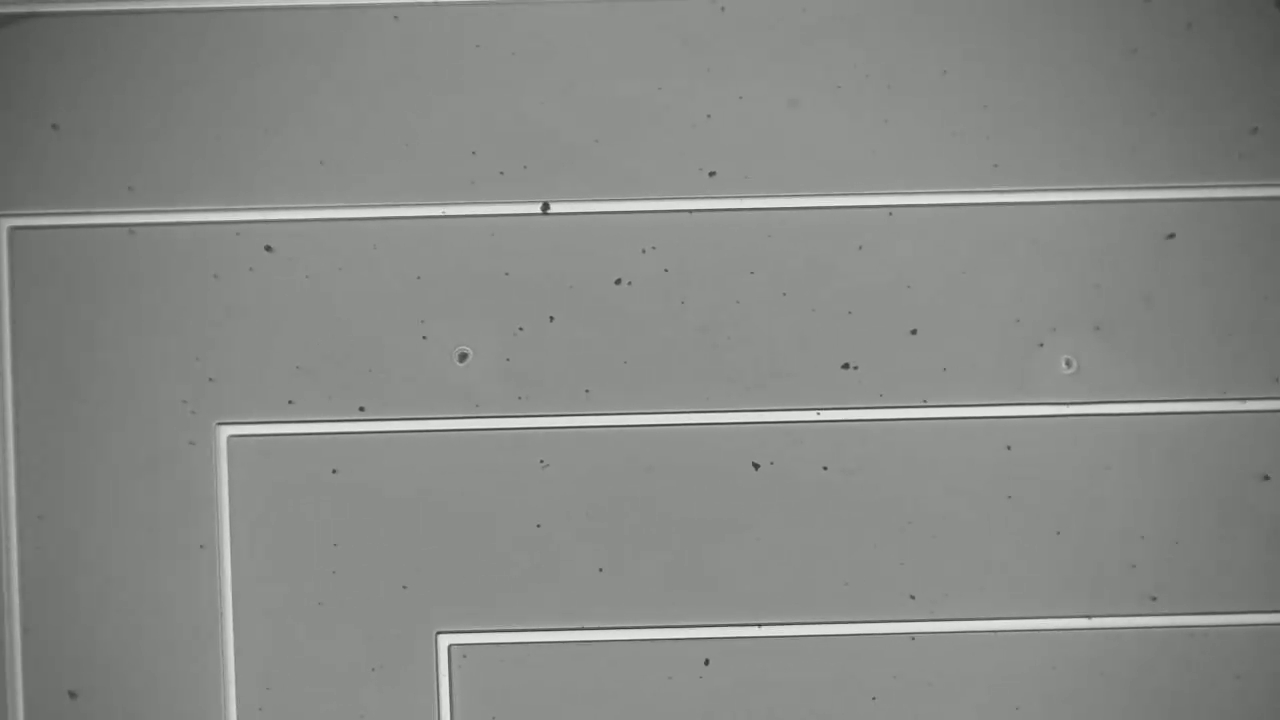stains_enbedded: (534, 192, 564, 223)
